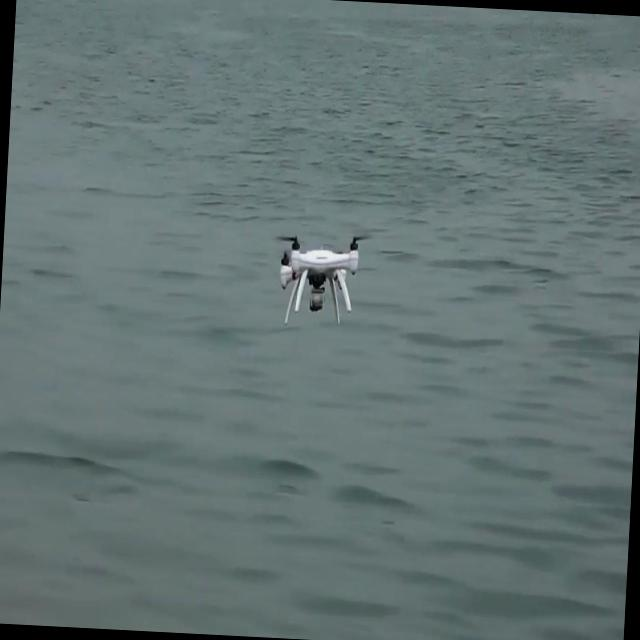drone: (272, 228, 364, 335)
